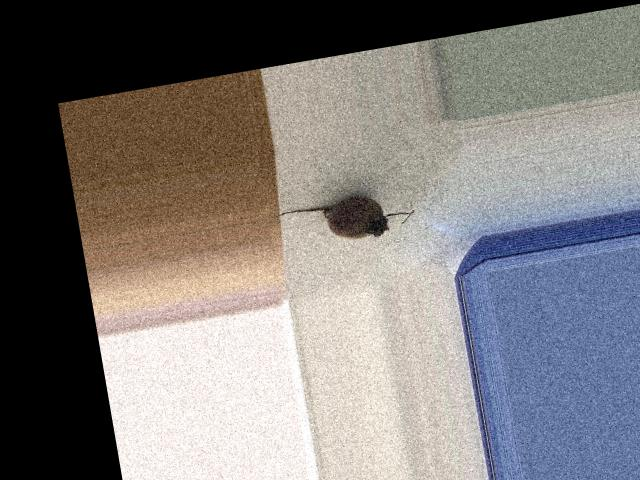beet: (273, 187, 416, 252)
